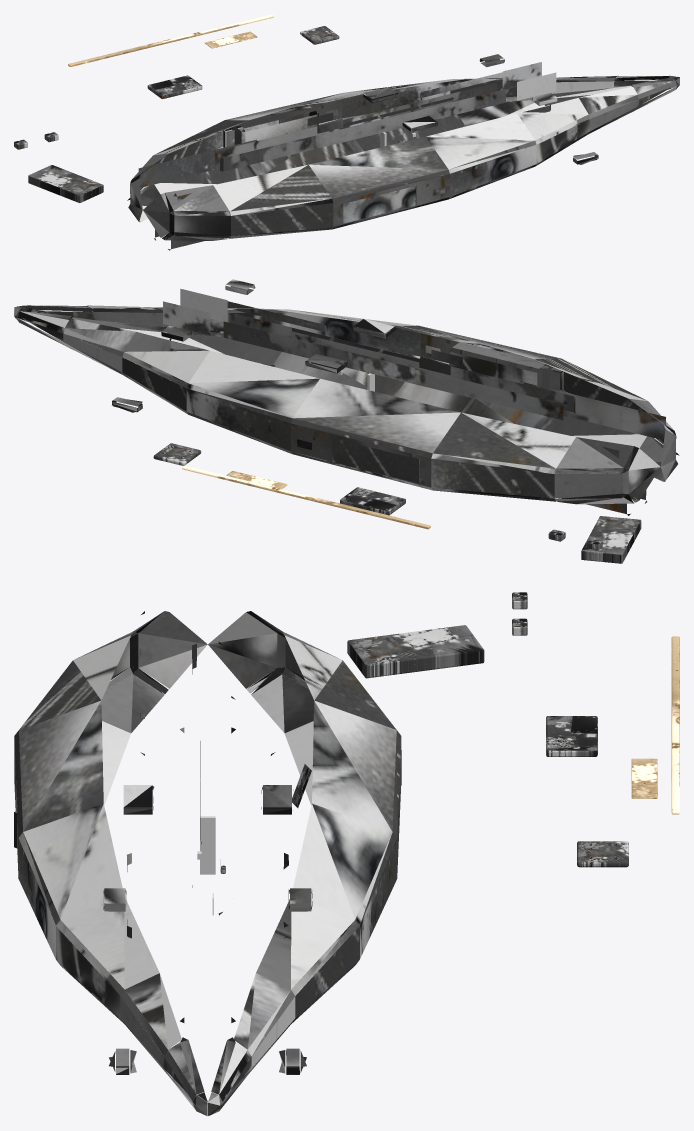
Rendered from hull_starter.glb.
3 renders of one model, top to bottom at view 1: azimuth 30°, elevation 25°; view 2: azimuth 150°, elevation 25°; view 3: azimuth 270°, elevation 25°, orthographic. The views are drawn at different scales.
Visible parts, largest first — view 1: LOD0_HULL_STARTER_MAIN, DET_reactor_scar, DET_accent_trim, DET_weld_patch_port, DET_maint_hatch, DET_stencil_debt; view 2: LOD0_HULL_STARTER_MAIN, DET_reactor_scar, DET_accent_trim, DET_weld_patch_port, DET_maint_hatch; view 3: LOD0_HULL_STARTER_MAIN, DET_reactor_scar, DET_weld_patch_port, DET_accent_trim, DET_maint_hatch, DET_stencil_debt, DET_faction_stripe_port.
Boxes of the visible parts, <box> form: LOD0_HULL_STARTER_MAIN: <box>127,54,679,250</box>; DET_reactor_scar: <box>28,165,103,202</box>; DET_accent_trim: <box>68,14,274,66</box>; DET_weld_patch_port: <box>147,75,202,99</box>; DET_maint_hatch: <box>300,26,339,44</box>; DET_stencil_debt: <box>205,31,257,48</box>; LOD0_HULL_STARTER_MAIN: <box>14,279,679,515</box>; DET_reactor_scar: <box>581,516,641,563</box>; DET_accent_trim: <box>182,465,430,529</box>; DET_weld_patch_port: <box>340,487,405,515</box>; DET_maint_hatch: <box>153,443,201,465</box>; LOD0_HULL_STARTER_MAIN: <box>14,611,401,1115</box>; DET_reactor_scar: <box>347,625,484,678</box>; DET_weld_patch_port: <box>546,716,597,756</box>; DET_accent_trim: <box>671,636,679,814</box>; DET_maint_hatch: <box>577,841,628,867</box>; DET_stencil_debt: <box>631,758,657,798</box>; DET_faction_stripe_port: <box>200,816,215,874</box>.
Bounding box in the file's own units: 11.31 × 1.62 × 6.4.
Materials: 3 (3 with a texture image).
